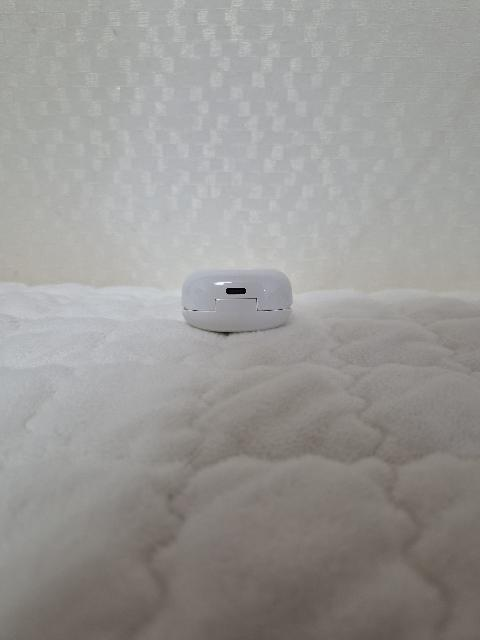earphone_case: (181, 268, 293, 332)
